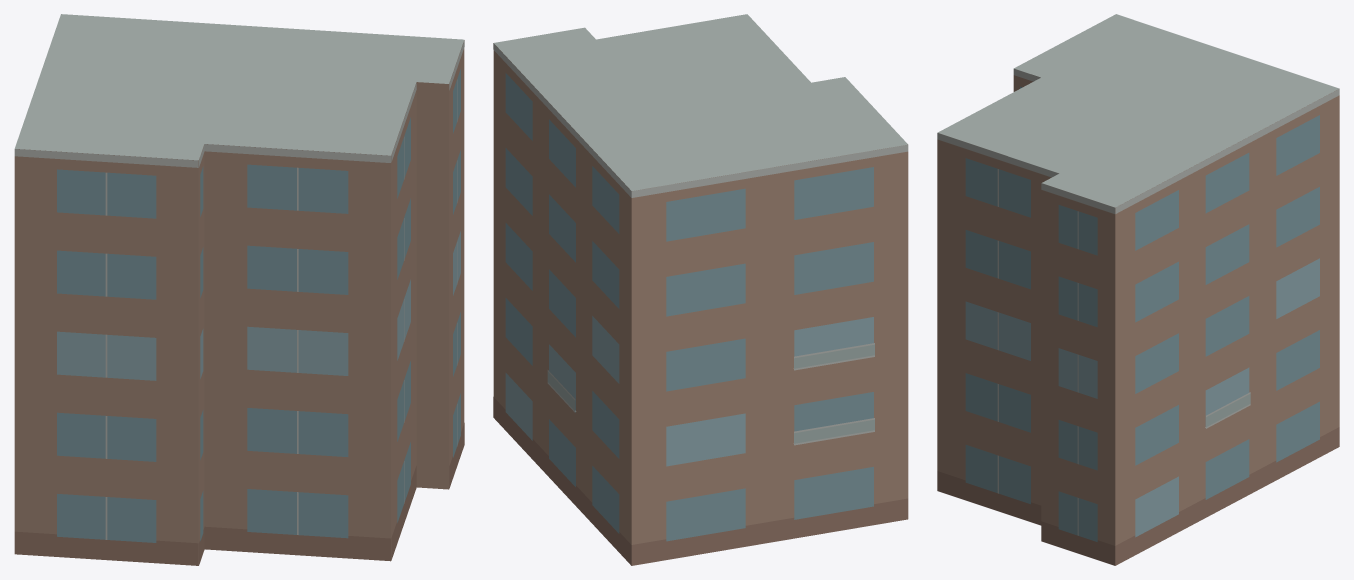
The model's file is survey-upis-32716090.glb.
3 renders of one model, left to right at view 1: azimuth 30°, elevation 25°; view 2: azimuth 150°, elevation 25°; view 3: azimuth 270°, elevation 25°, orthographic. The views are drawn at different scales.
Parts seen in each view (by area): view 1: survey-upis-32716090.tmp; view 2: survey-upis-32716090.tmp; view 3: survey-upis-32716090.tmp.
Part boxes in pixels (box(x1,y1,x2,y2)): survey-upis-32716090.tmp: box(14, 14, 464, 565); survey-upis-32716090.tmp: box(493, 14, 908, 565); survey-upis-32716090.tmp: box(937, 14, 1339, 565).
Size of the model in its own units: 15.32 by 13.2 by 13.44.
